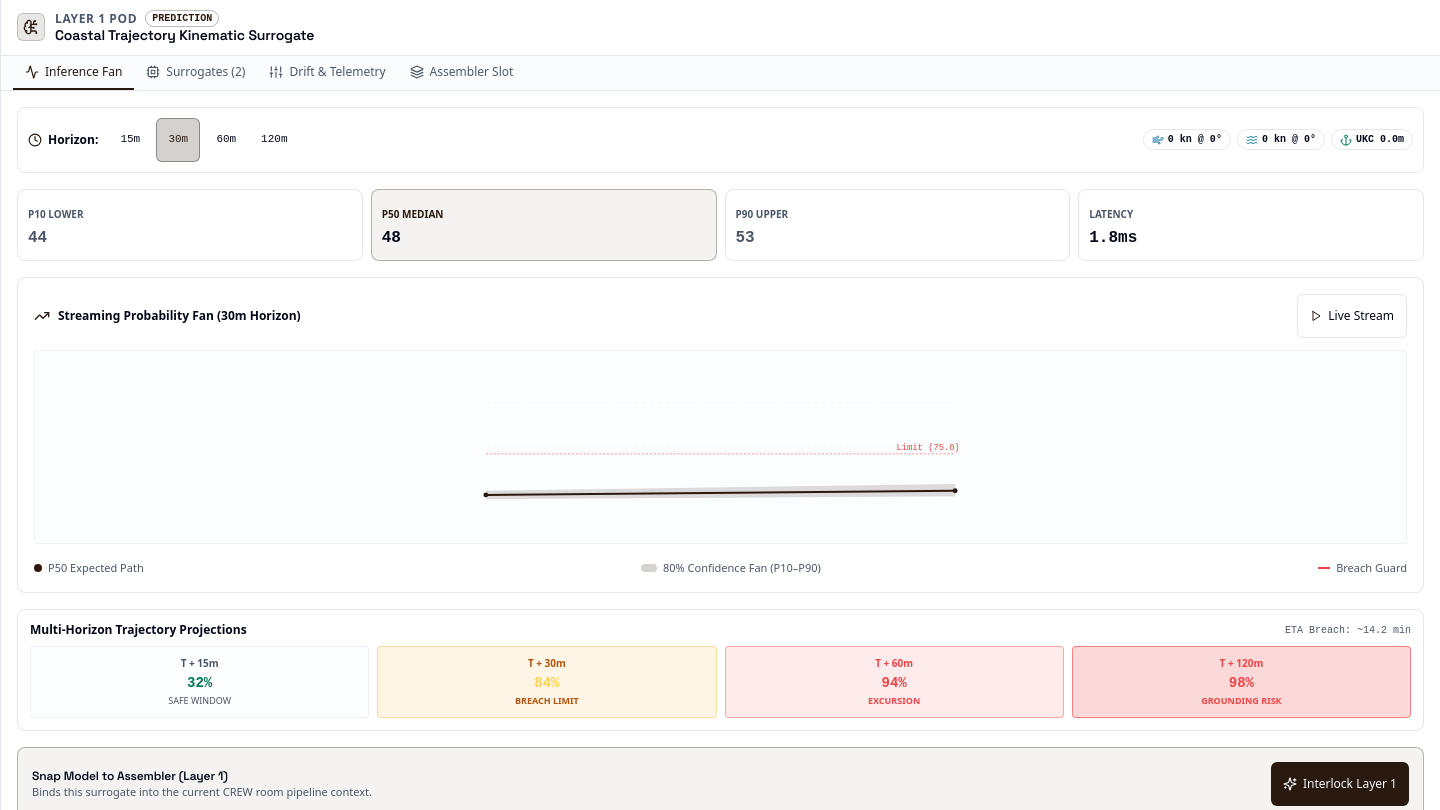
Test: PredictionStudioPod Component › renders multi-horizon buttons and switches horizon when clicked
Expected: the button "30m" is shown, x1=156 y1=118 x2=200 y2=162
Expected: the button "60m" is shown, x1=204 y1=118 x2=248 y2=162
# Click 15m button
Click the button "15m" at (130, 140), box x1=108 y1=118 x2=152 y2=162
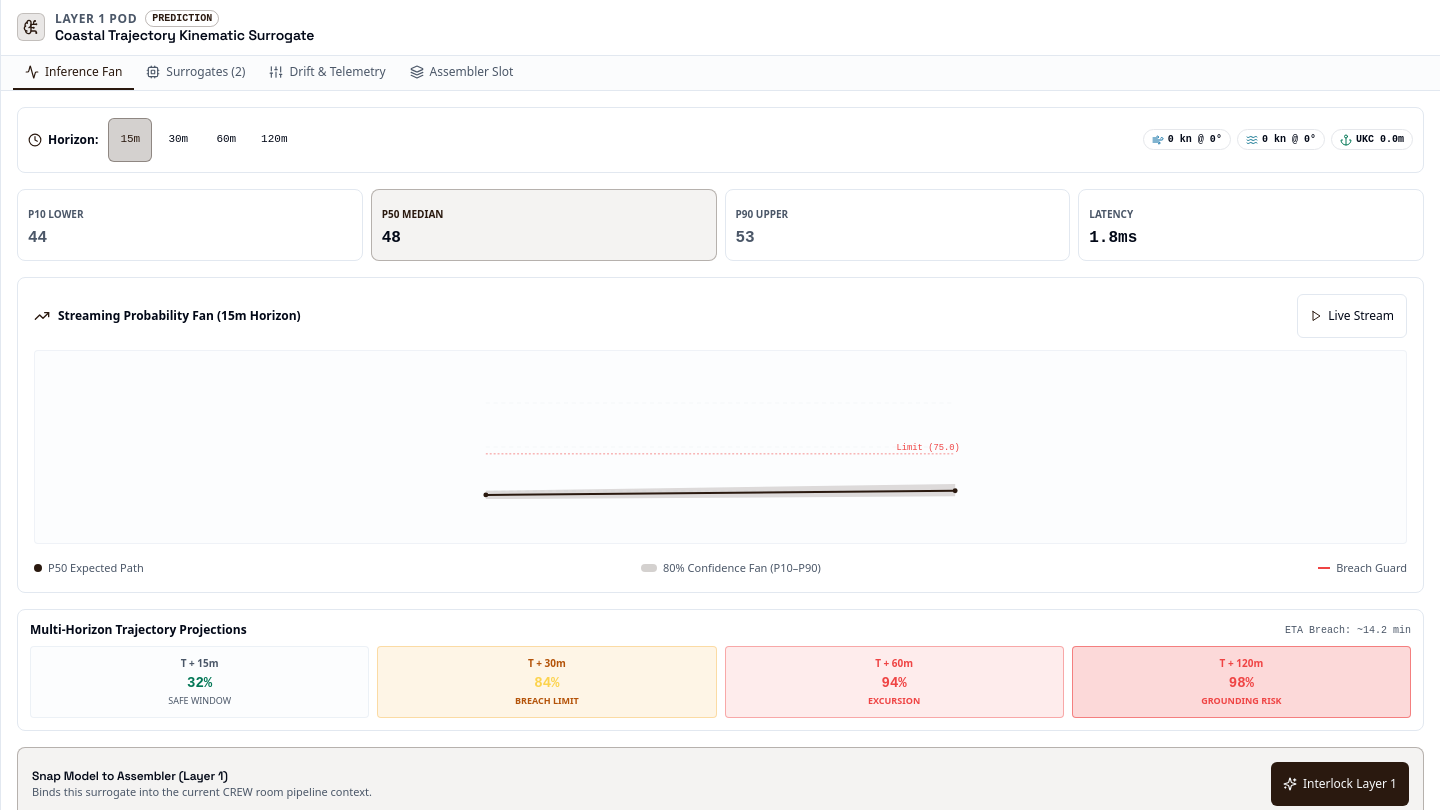
Now the text "Streaming Probability Fan (15m Horizon)" is shown, box x1=58 y1=308 x2=301 y2=324
# Click 60m button
Click the button "60m" at (226, 140), box x1=204 y1=118 x2=248 y2=162
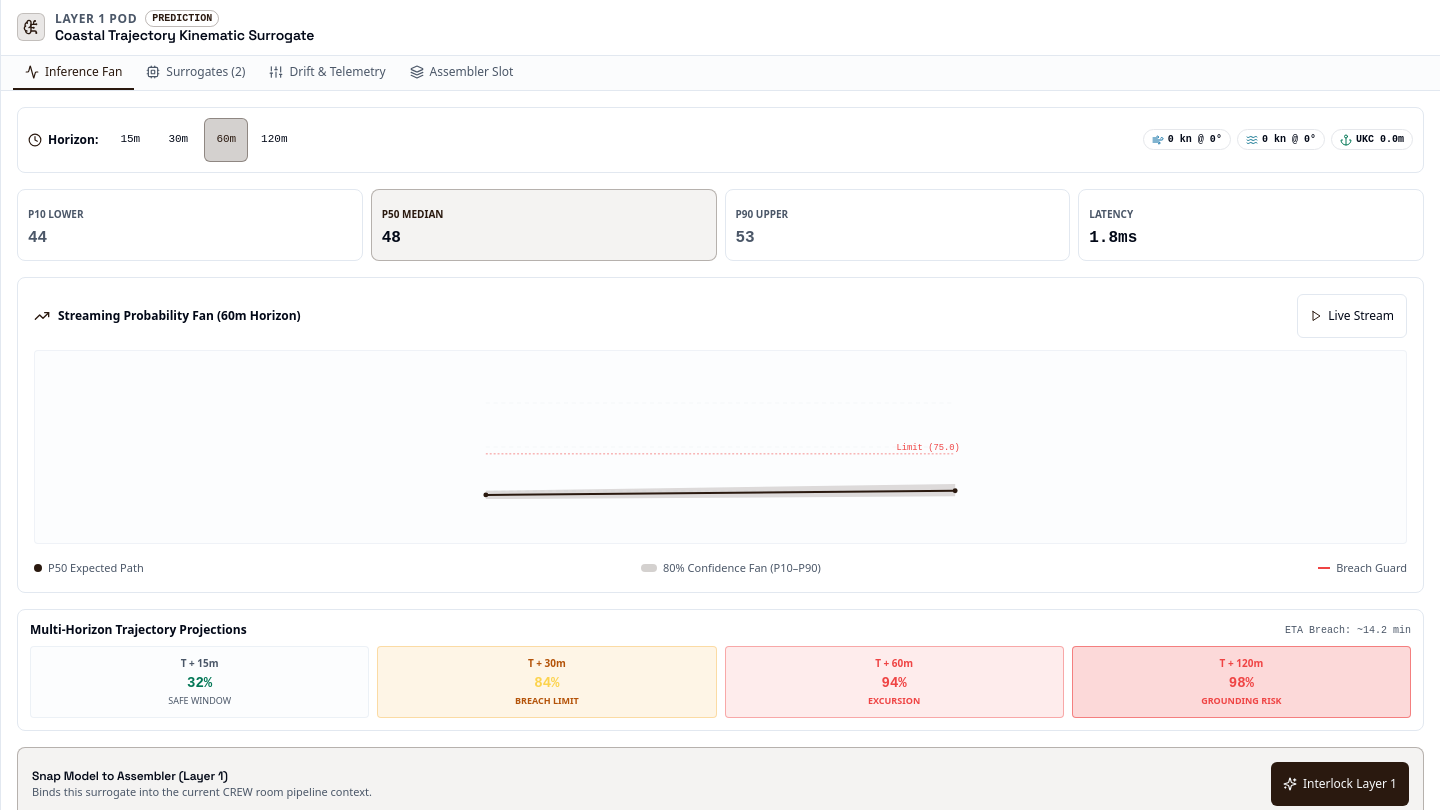
Now the text "Streaming Probability Fan (60m Horizon)" is shown, box x1=58 y1=308 x2=301 y2=324
